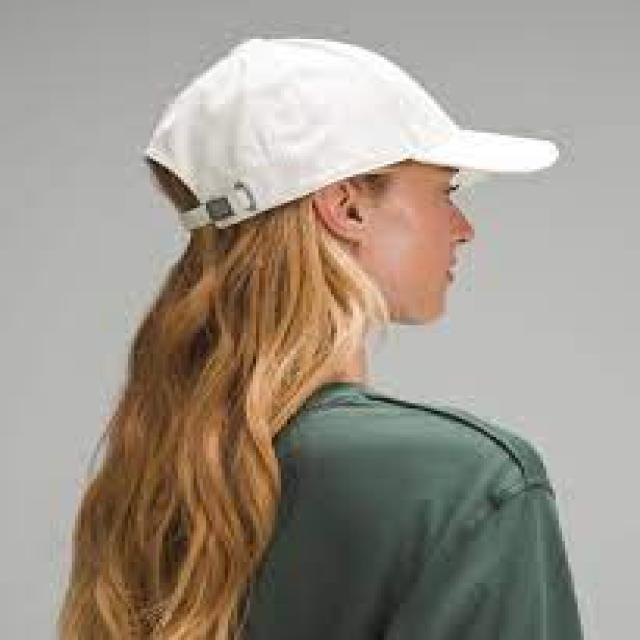Nonhelmet: (140, 31, 559, 229)
